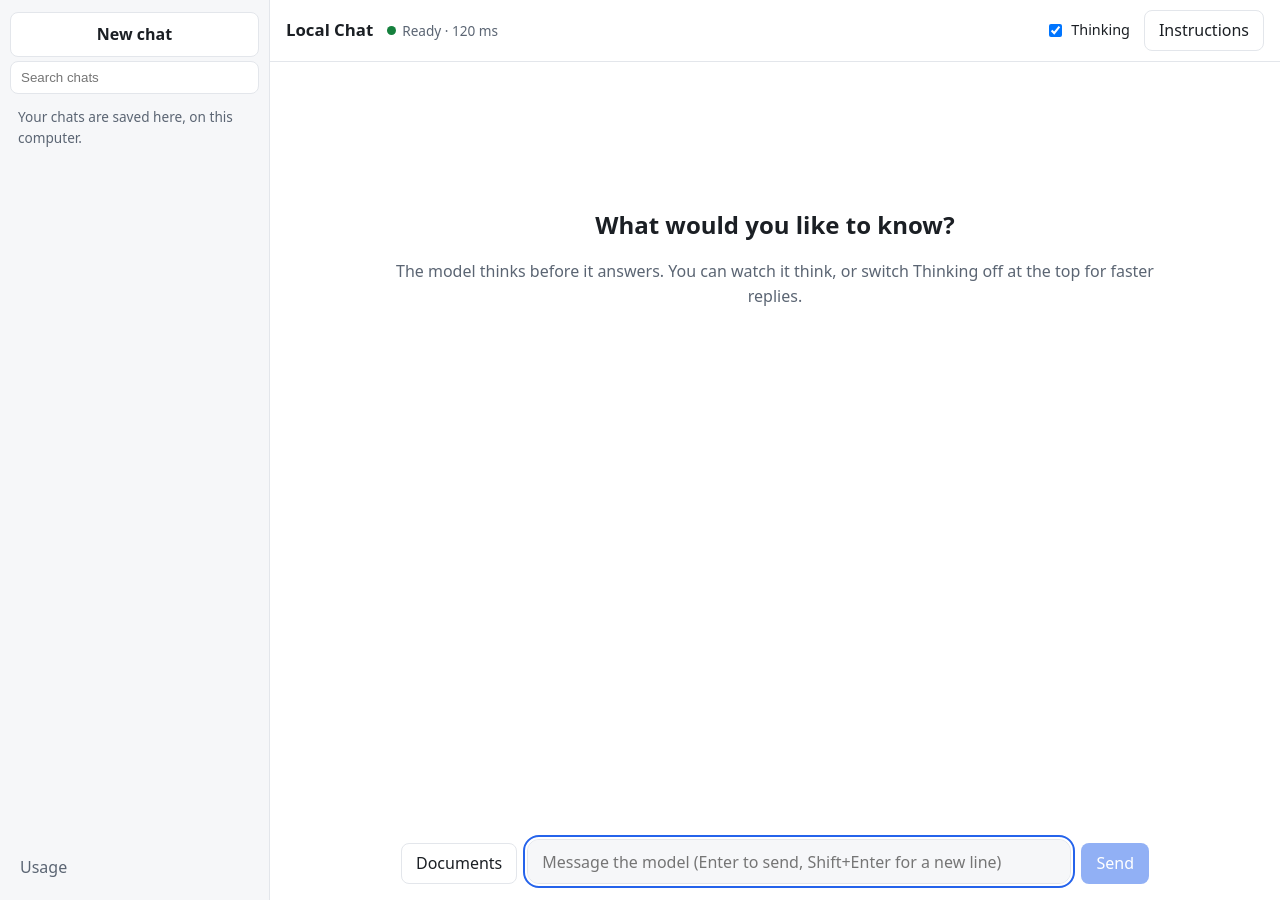
Test case: documents › deleting a document asks first, then removes it
Click the button "Documents" at (459, 864), box x1=401 y1=843 x2=517 y2=884
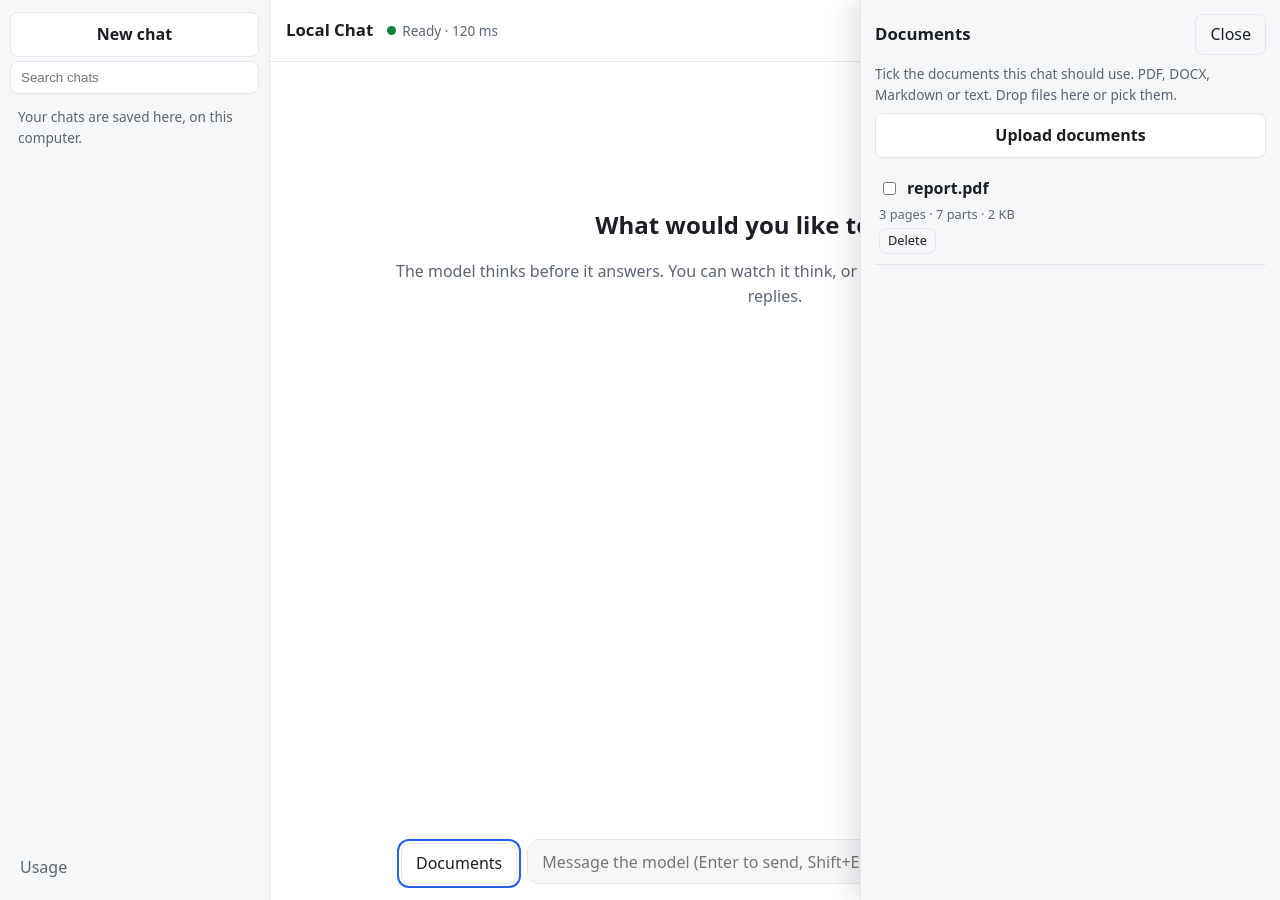
Click the button with aria-label "Delete report.pdf" at (907, 241), box x1=879 y1=228 x2=936 y2=254
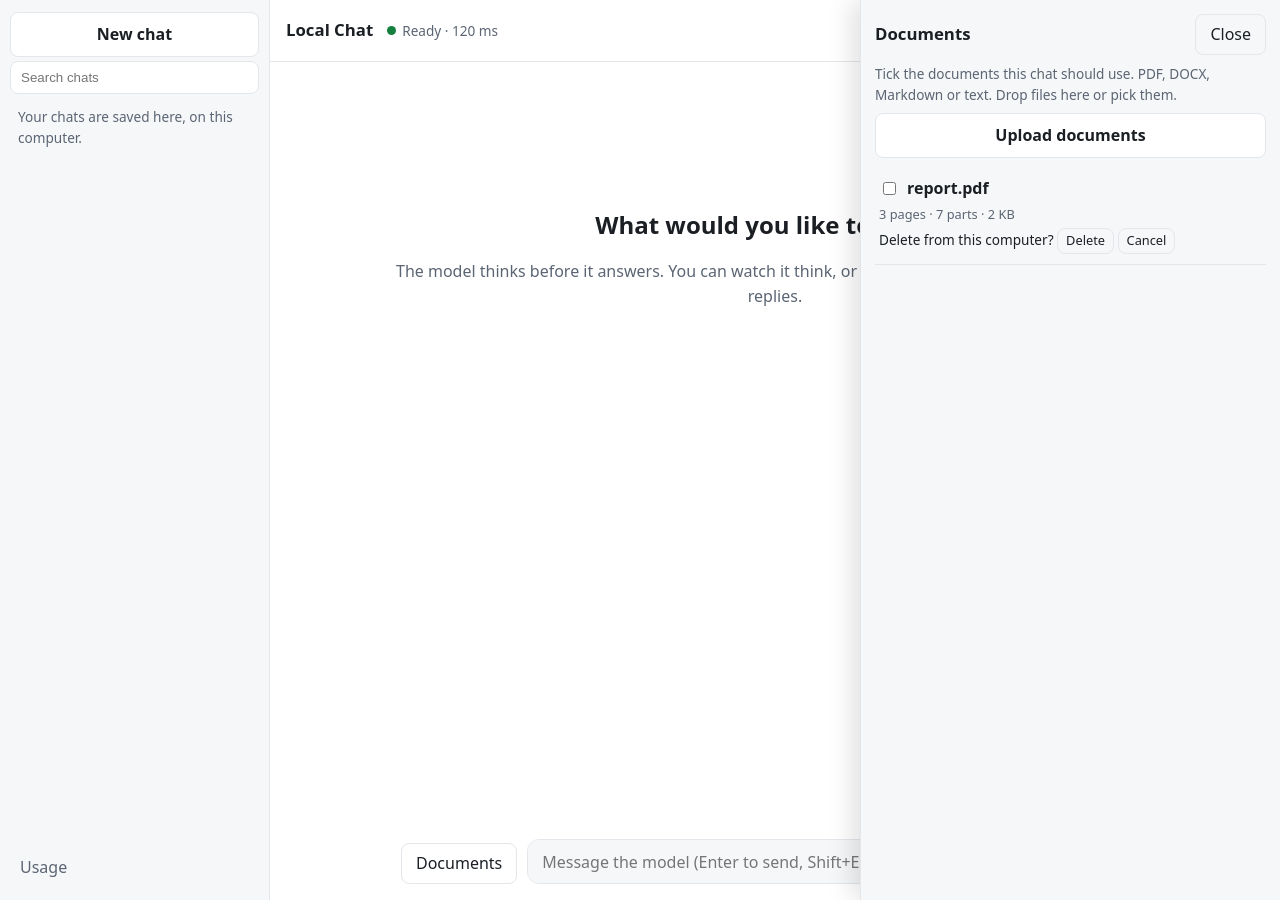
Click the button "Cancel" at (1146, 241), box x1=1118 y1=228 x2=1175 y2=254
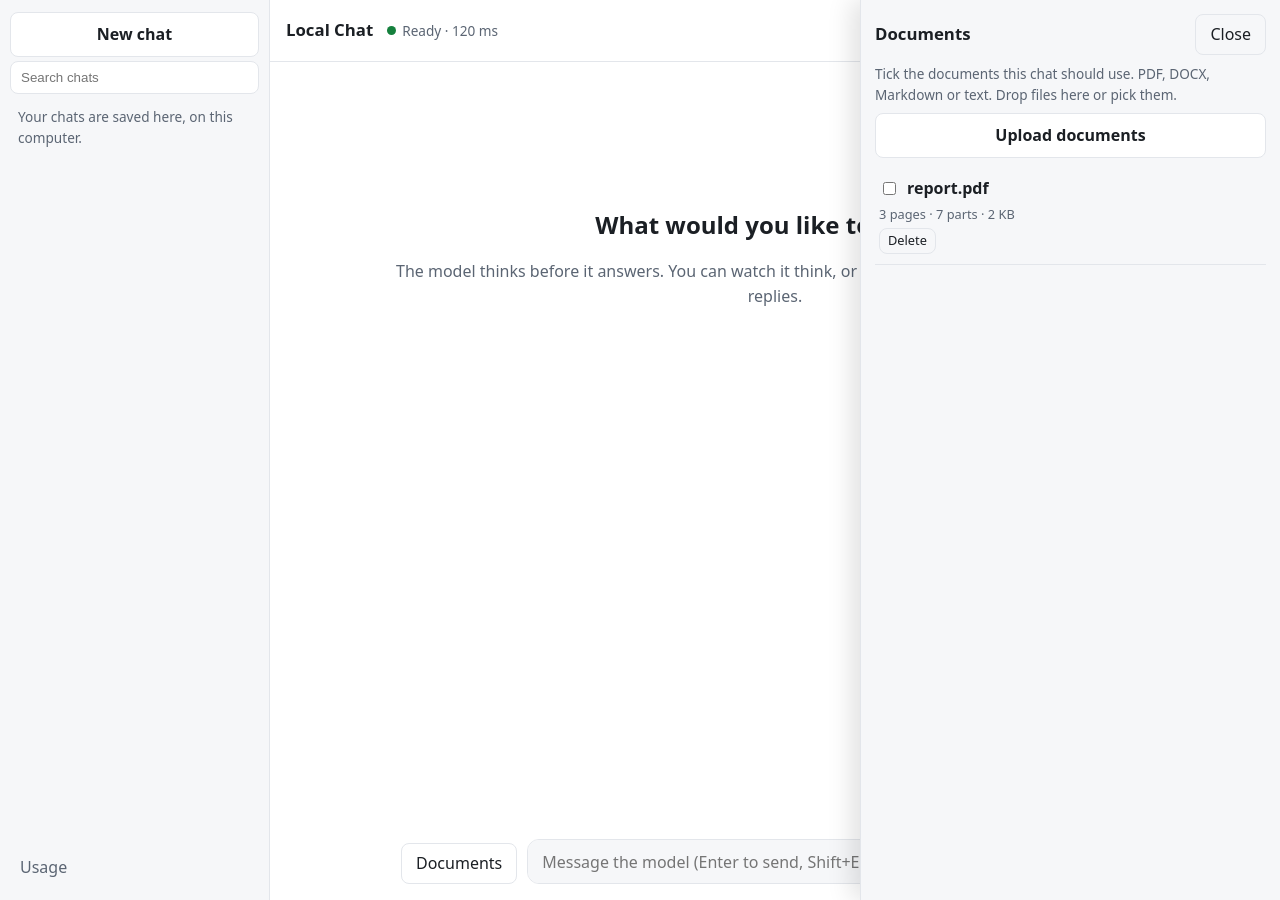
Click the button with aria-label "Delete report.pdf" at (907, 241), box x1=879 y1=228 x2=936 y2=254
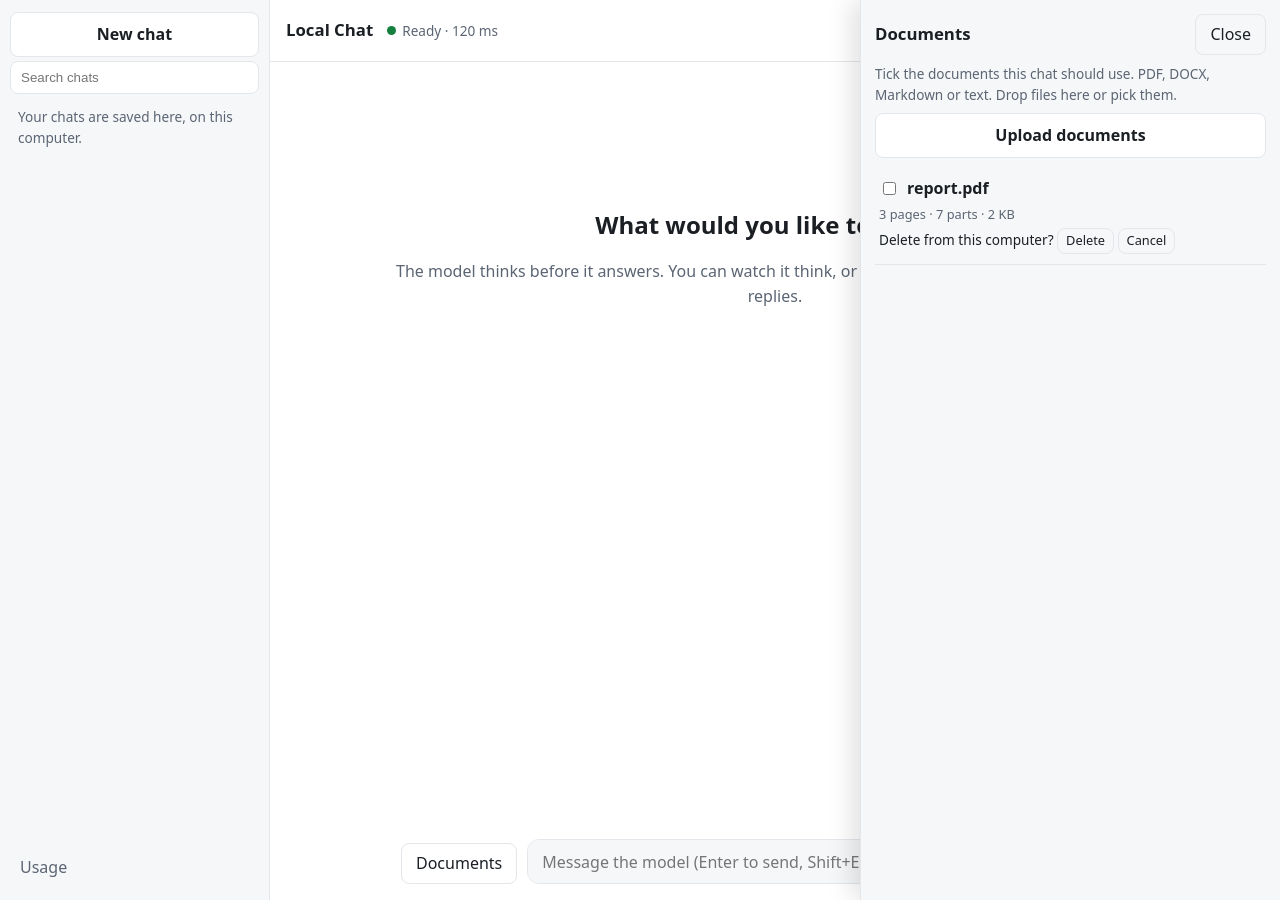
Click the button "Delete" at (1086, 241), box x1=1057 y1=228 x2=1114 y2=254
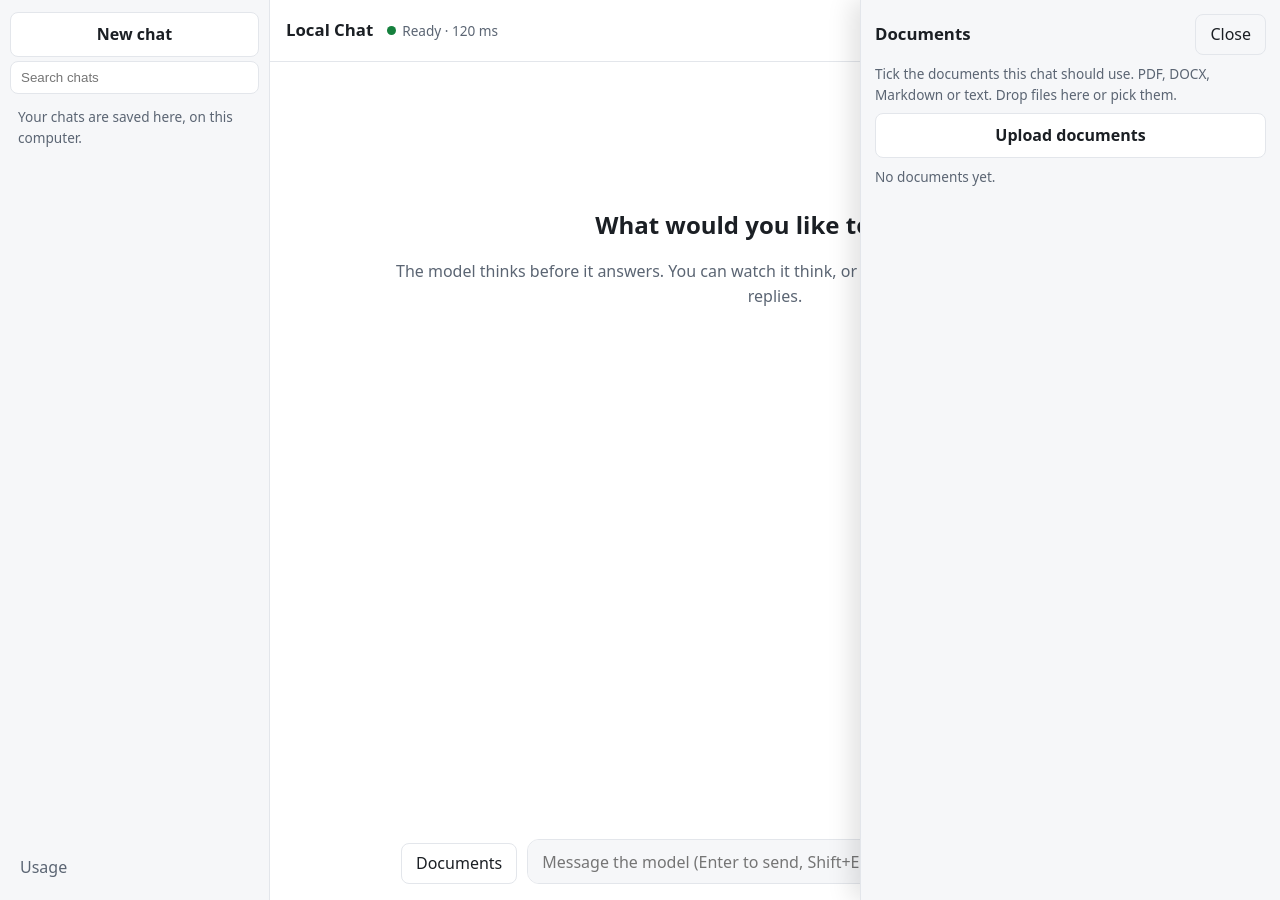
Result: the text "No documents yet." is shown at x1=875 y1=167 x2=996 y2=186
